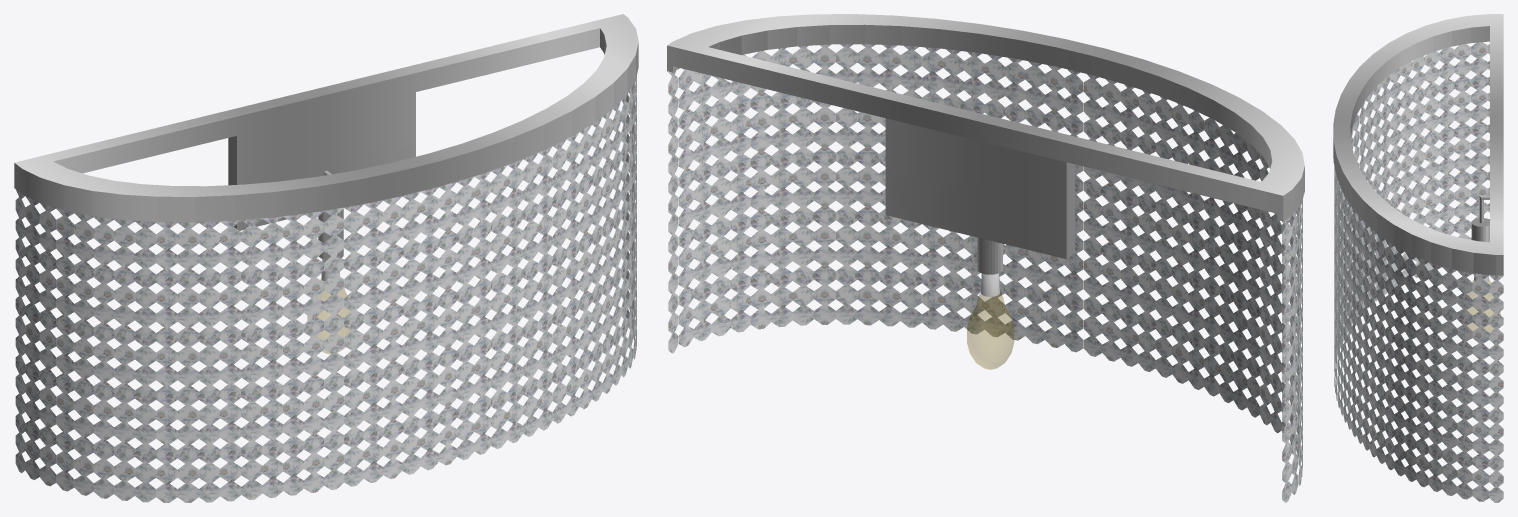
File: wall_lamp_4.glb
3 views of the same model, side by side, from view 1: azimuth 30°, elevation 25°; view 2: azimuth 150°, elevation 25°; view 3: azimuth 270°, elevation 25° (orthographic). The views are drawn at different scales.
Visible parts, largest first — view 1: root; view 2: root; view 3: root.
Boxes of the visible parts, x1=… form: root: x1=14, y1=14, x2=638, y2=502; root: x1=667, y1=14, x2=1304, y2=502; root: x1=1333, y1=14, x2=1503, y2=502.
Size of the model in its own units: 0.5095 by 0.2449 by 0.1524.
4 materials, 2 textured.
